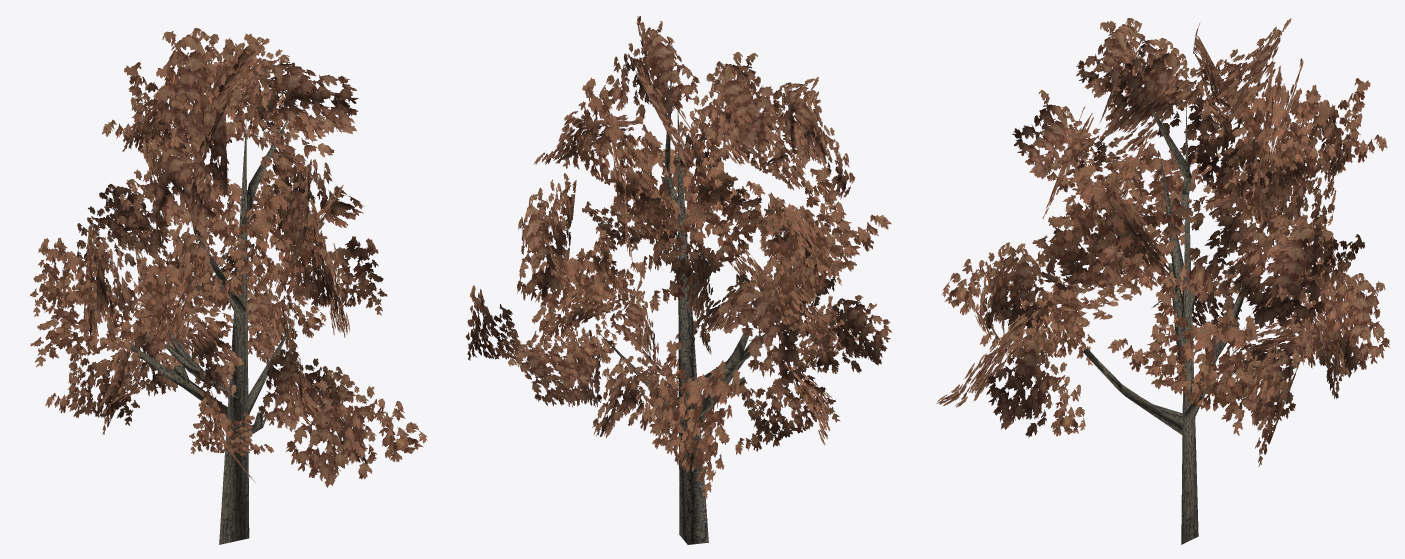
Rendered from Vegetation_Tree02b_lod2.glb.
3 renders of one model, left to right at view 1: azimuth 30°, elevation 25°; view 2: azimuth 150°, elevation 25°; view 3: azimuth 270°, elevation 25°, orthographic. The views are drawn at different scales.
Parts seen in each view (by area): view 1: zw_tree02b_lod2_0; view 2: zw_tree02b_lod2_0; view 3: zw_tree02b_lod2_0.
Boxes of the visible parts, bbox=[...] form: zw_tree02b_lod2_0: bbox=[30, 28, 427, 544]; zw_tree02b_lod2_0: bbox=[465, 16, 891, 544]; zw_tree02b_lod2_0: bbox=[936, 18, 1389, 544].
Size of the model in its own units: 18.97 by 24.16 by 19.27.
2 materials, 2 textured.
